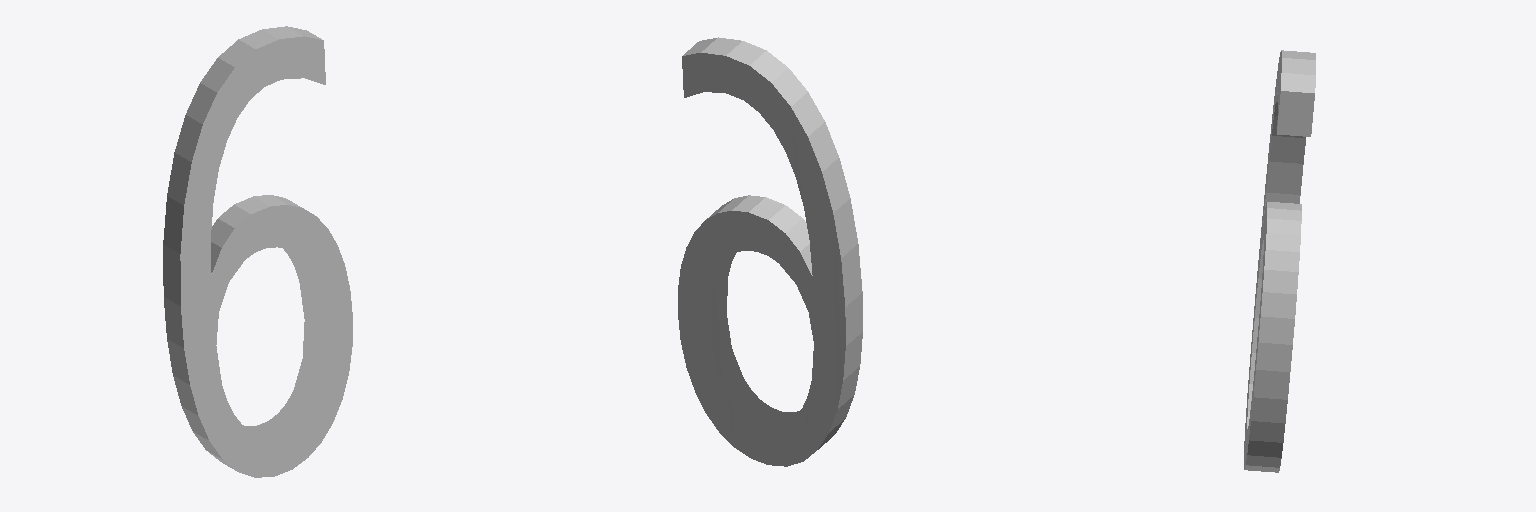
File: original-166.obj
3 renders of one model, left to right at view 1: azimuth 30°, elevation 25°; view 2: azimuth 150°, elevation 25°; view 3: azimuth 270°, elevation 25°, orthographic.
Visible parts, largest first — view 1: #ID961; view 2: #ID961; view 3: #ID961.
Part boxes in pixels (x1,y1,x2,y2): #ID961: (163, 26, 352, 477); #ID961: (678, 37, 862, 466); #ID961: (1244, 50, 1315, 472).
Size of the model in its own units: 0.0046 by 0.0108 by 0.0017.